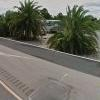Tree: (10, 4, 95, 51)
